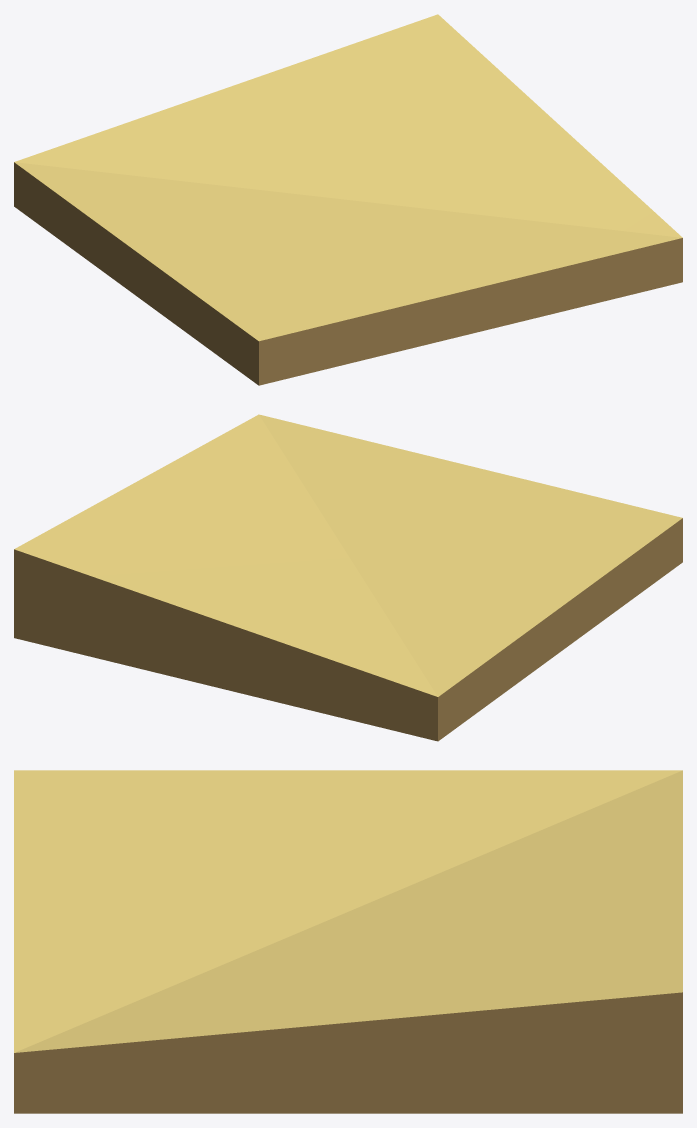
Rendered from Terrain_Modular_Tiles_Sand_Dirt_Ramp_Corner_Small_02.fbx.
3 views of the same model, one above another, from view 1: azimuth 30°, elevation 25°; view 2: azimuth 150°, elevation 25°; view 3: azimuth 270°, elevation 25° (orthographic). The views are drawn at different scales.
Visible parts, largest first — view 1: Terrain_Modular_Tiles_Sand_Dirt_Ramp_Corner_Small_02; view 2: Terrain_Modular_Tiles_Sand_Dirt_Ramp_Corner_Small_02; view 3: Terrain_Modular_Tiles_Sand_Dirt_Ramp_Corner_Small_02.
Boxes of the visible parts, x1=… form: Terrain_Modular_Tiles_Sand_Dirt_Ramp_Corner_Small_02: x1=14, y1=14, x2=682, y2=385; Terrain_Modular_Tiles_Sand_Dirt_Ramp_Corner_Small_02: x1=14, y1=414, x2=682, y2=741; Terrain_Modular_Tiles_Sand_Dirt_Ramp_Corner_Small_02: x1=14, y1=770, x2=682, y2=1113.
Size of the model in its own units: 118 by 23.62 by 118.
